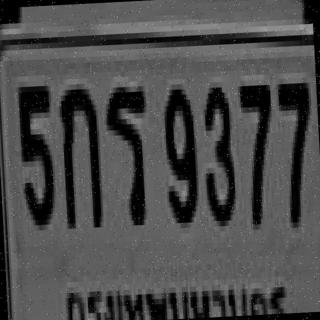A01: (56, 78, 102, 224)
A35: (102, 81, 150, 221)
N03: (199, 82, 235, 222)
N05: (16, 80, 54, 226)
N07: (276, 78, 313, 223), (238, 80, 275, 225)
N09: (161, 78, 196, 224)
